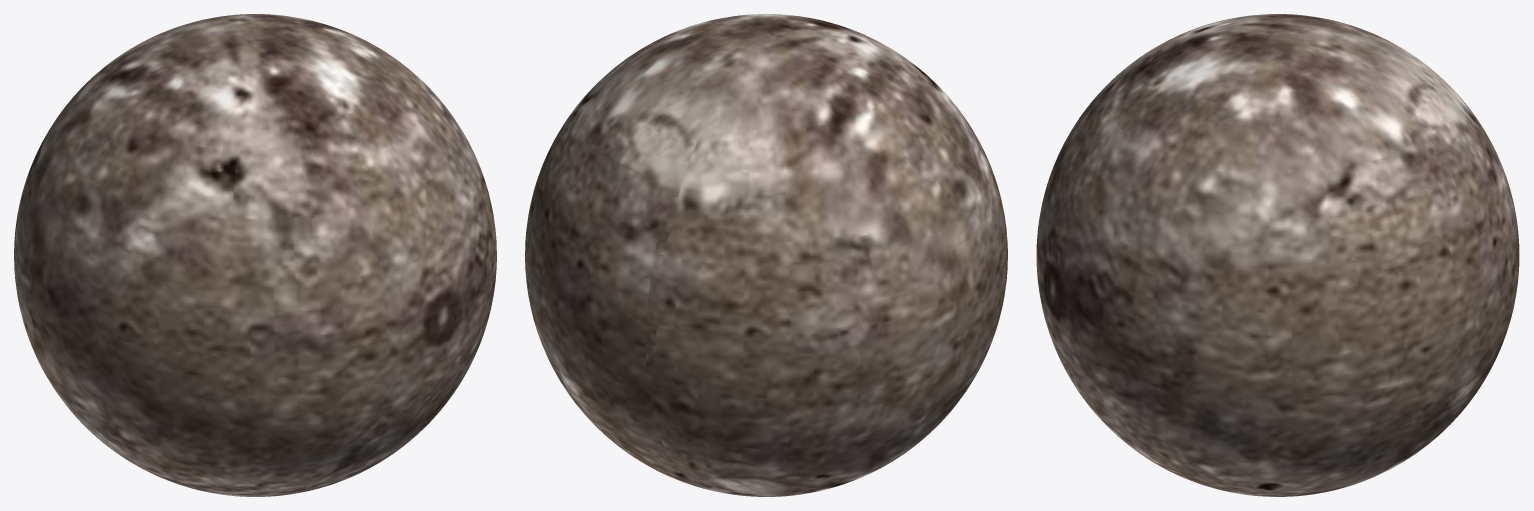
The model's file is oberon.obj.
3 renders of one model, left to right at view 1: azimuth 30°, elevation 25°; view 2: azimuth 150°, elevation 25°; view 3: azimuth 270°, elevation 25°, orthographic.
Visible parts, largest first — view 1: earth_Sphere; view 2: earth_Sphere; view 3: earth_Sphere.
Boxes of the visible parts, <box> form: earth_Sphere: <box>14,14,496,496</box>; earth_Sphere: <box>525,14,1007,496</box>; earth_Sphere: <box>1036,14,1519,496</box>.
Size of the model in its own units: 2 by 2 by 2.
1 material, 1 textured.
